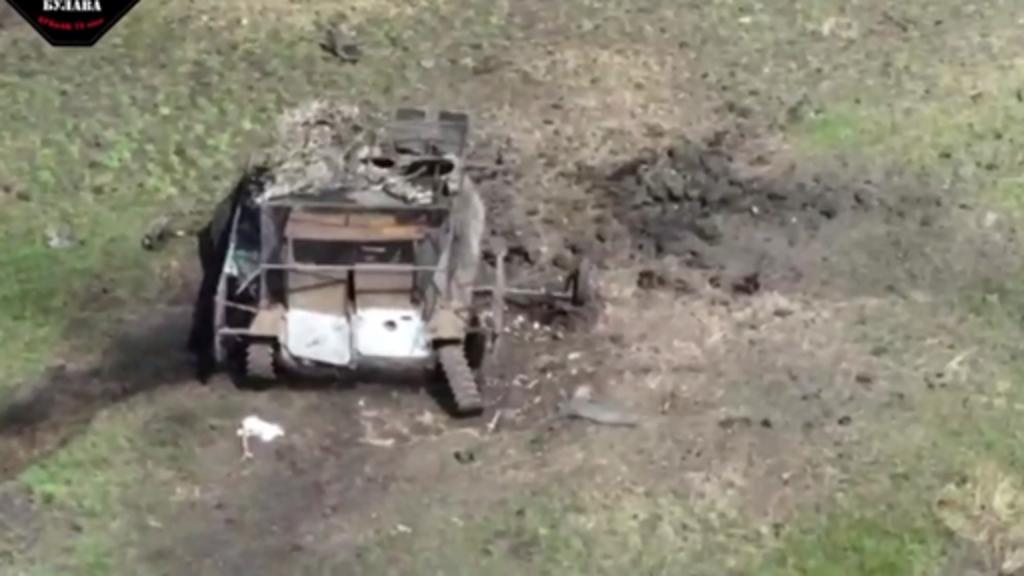APC-IFV: (198, 98, 502, 422)
